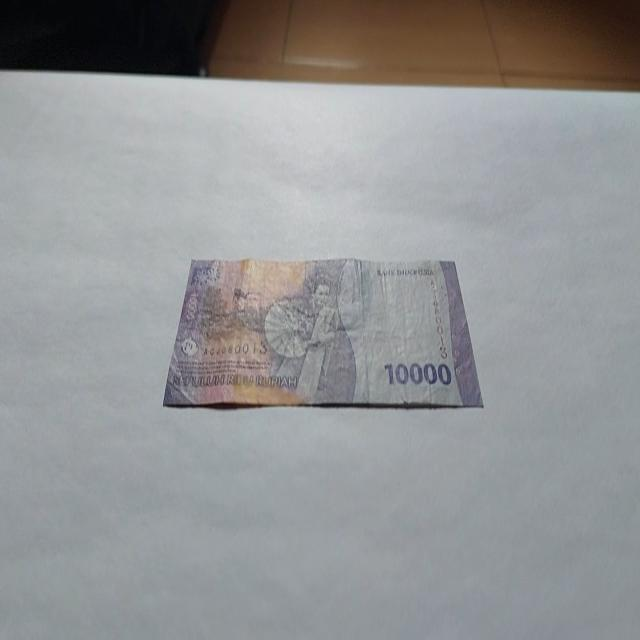sepuluh ribu rupiah: (162, 254, 484, 411)
